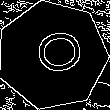O_W: (23, 30, 82, 81)
